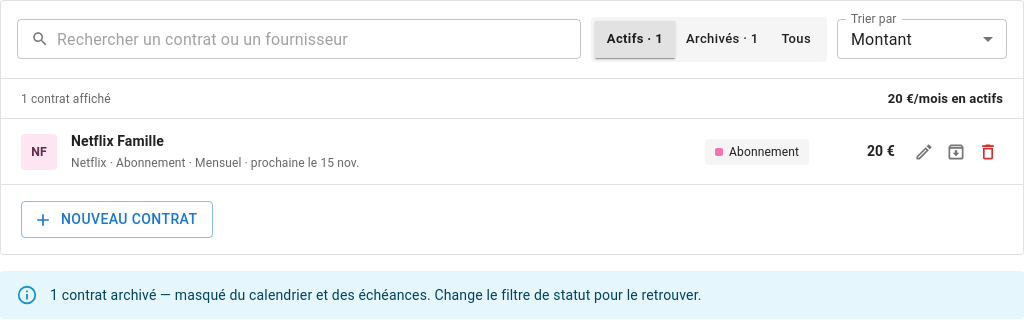
Scenario: ContractSettings – liste › masque les contrats archivés par défaut et les retrouve par le filtre
Expected: the text "Ancien forfait" is not shown
Expected: the text "1 contrat archivé" is shown, [50,287,702,303]
Click the button "Archivés · 1" at (722, 39), box [674,21,771,58]
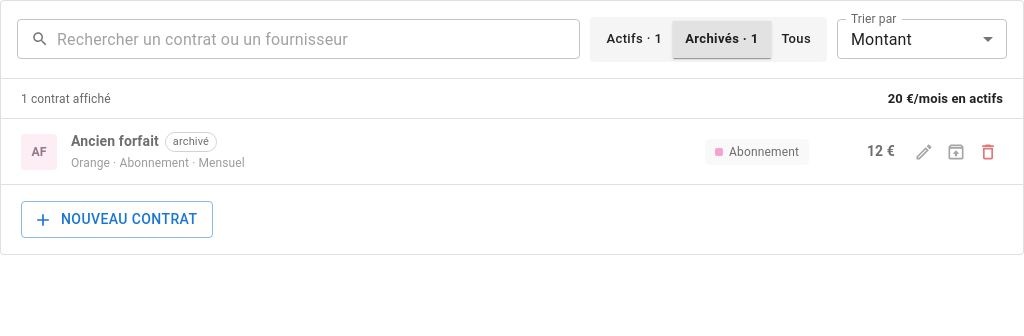
Expected: the text "Ancien forfait" is shown, [71,131,159,152]
Expected: the text "Netflix Famille" is gone
